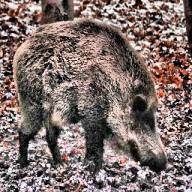boar: (11, 17, 168, 174)
